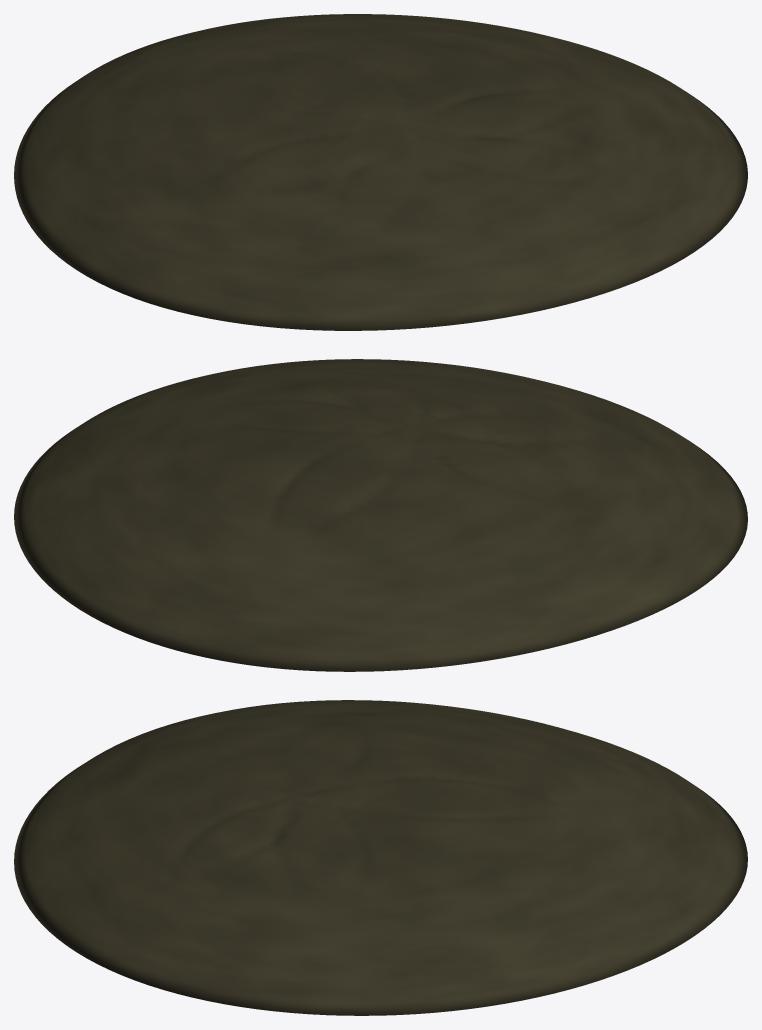
3 renders of one model, top to bottom at view 1: azimuth 30°, elevation 25°; view 2: azimuth 150°, elevation 25°; view 3: azimuth 270°, elevation 25°, orthographic.
Visible parts, largest first — view 1: NEW657_Living_Dendraster; view 2: NEW657_Living_Dendraster; view 3: NEW657_Living_Dendraster.
Part boxes in pixels (x1,y1,x2,y2): NEW657_Living_Dendraster: (14, 14, 747, 330); NEW657_Living_Dendraster: (14, 359, 747, 671); NEW657_Living_Dendraster: (14, 700, 747, 1015).
Bounding box in the file's own units: 0.07 × 0.008 × 0.0698.
Materials: 1 (1 with a texture image).
